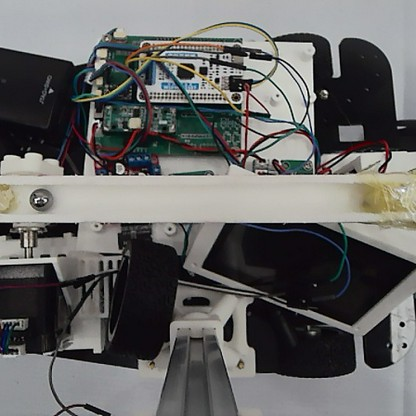ironball: (27, 185, 55, 213)
